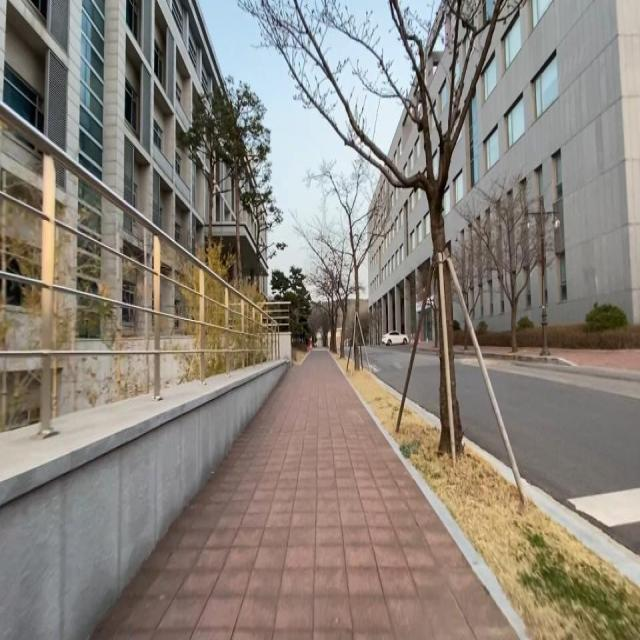sidewalk: (91, 348, 521, 640), (551, 349, 640, 372)
